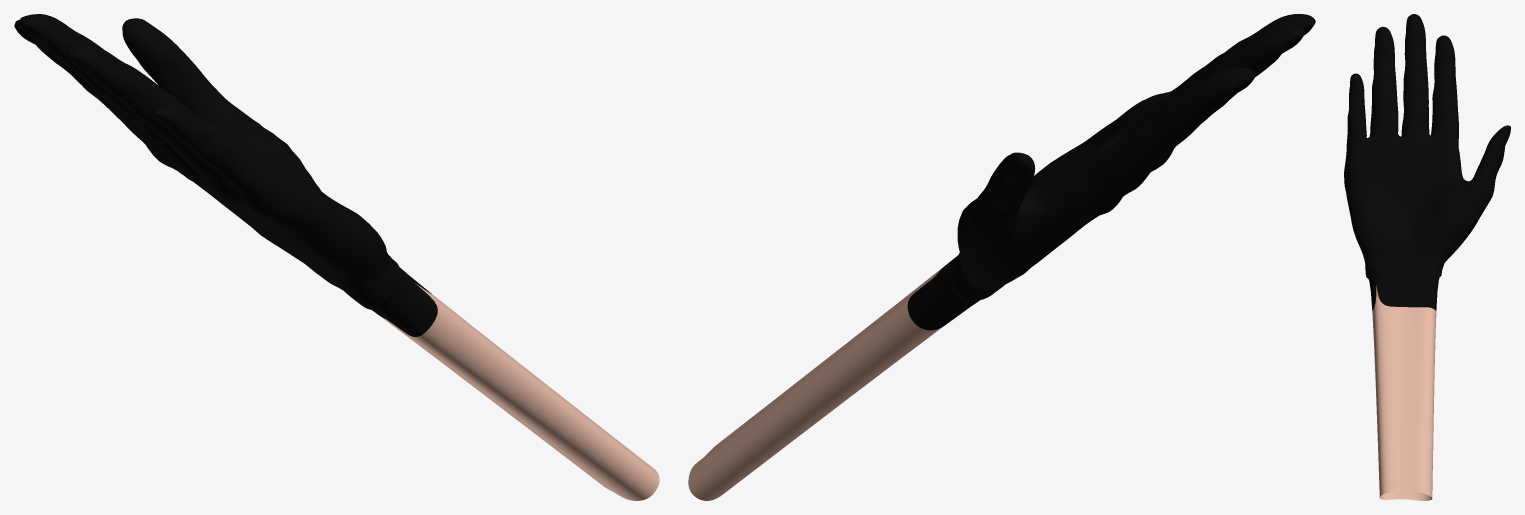
File: sol_el_2.fbx
3 renders of one model, left to right at view 1: azimuth 30°, elevation 25°; view 2: azimuth 150°, elevation 25°; view 3: azimuth 270°, elevation 25°, orthographic. The views are drawn at different scales.
Parts seen in each view (by area): view 1: hand.001; view 2: hand.001; view 3: hand.001.
Boxes of the visible parts, x1=… form: hand.001: x1=14, y1=14, x2=659, y2=500; hand.001: x1=688, y1=14, x2=1315, y2=500; hand.001: x1=1344, y1=14, x2=1510, y2=500.
Bounding box in the file's own units: 44.36 × 42.35 × 19.24.
